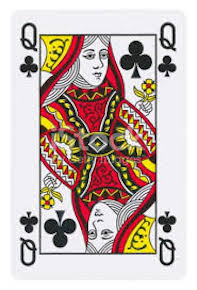QueenOfClubs: (8, 5, 188, 284)
